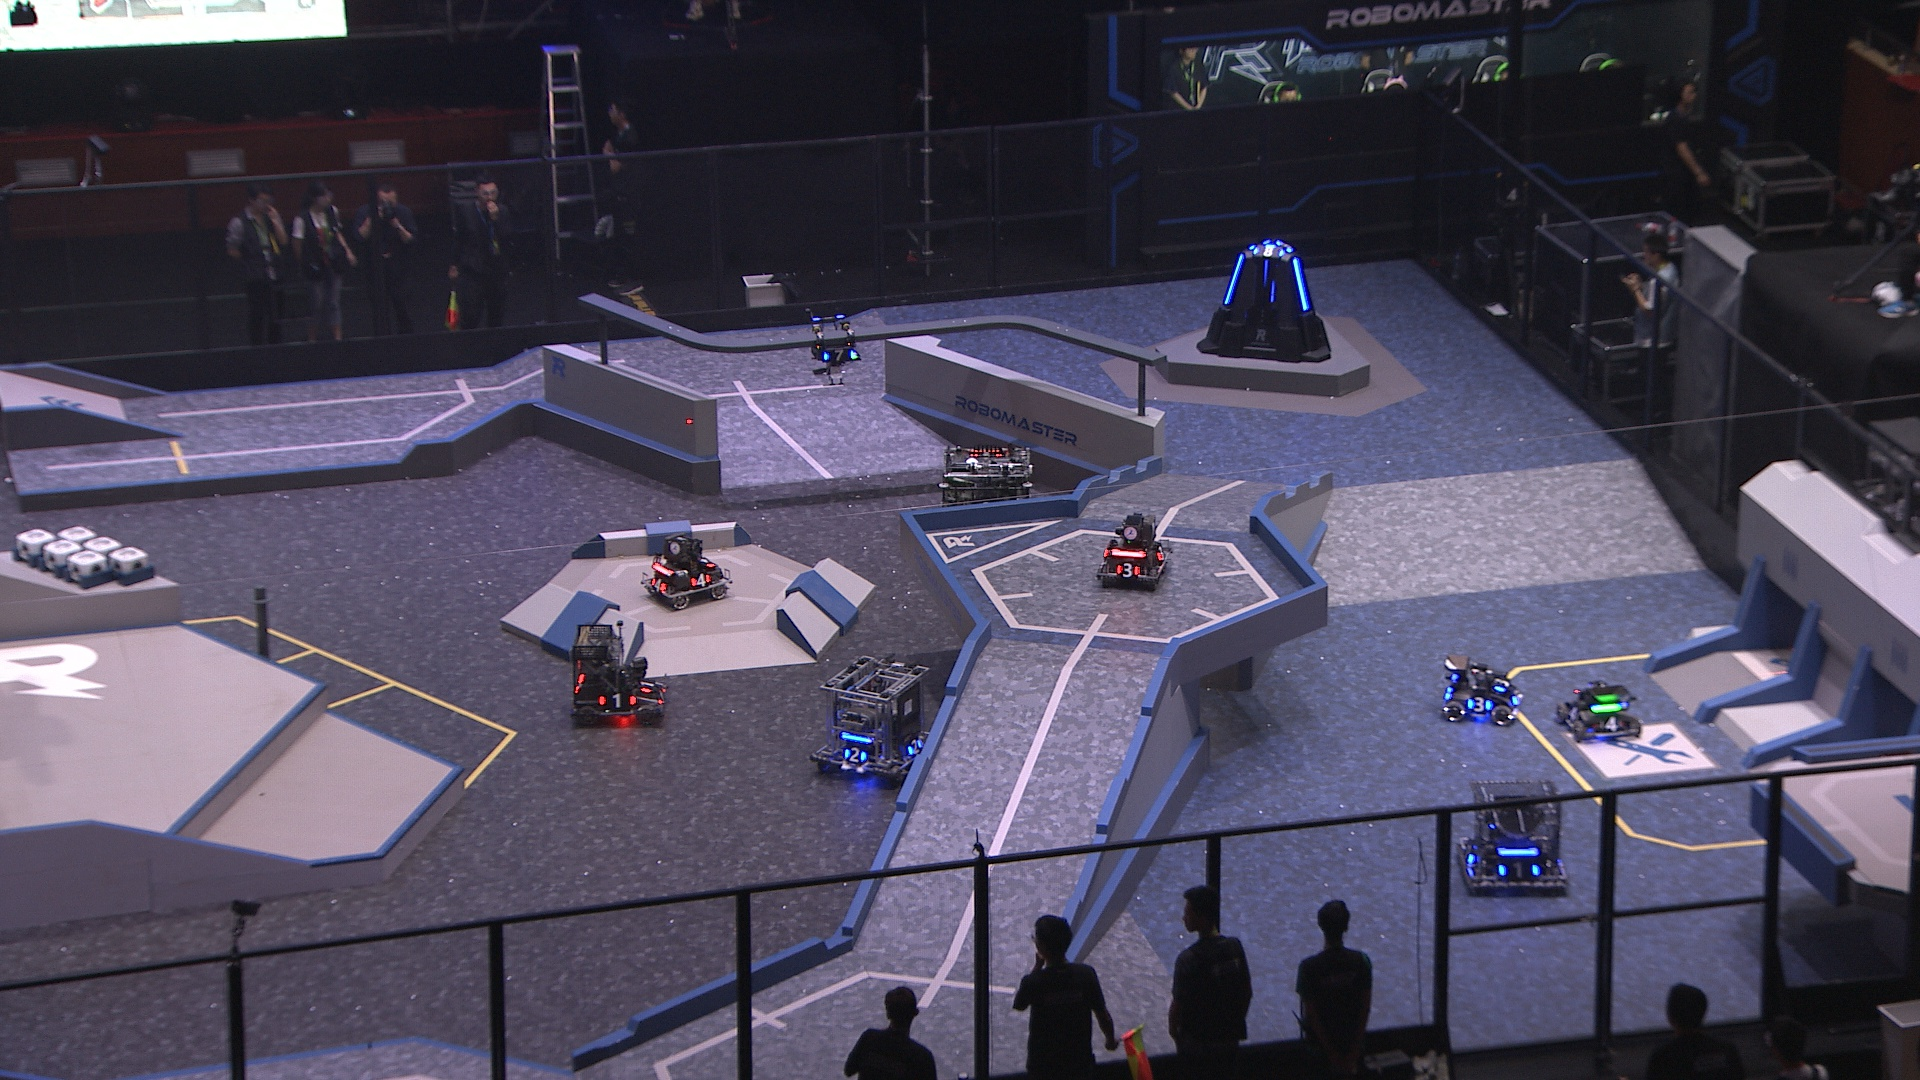armor: (1220, 253, 1245, 309), (1292, 258, 1311, 311), (1499, 860, 1539, 882), (822, 349, 858, 365), (1462, 841, 1480, 874), (600, 692, 636, 708), (1466, 694, 1491, 716), (1251, 243, 1284, 258), (843, 746, 870, 764), (1598, 716, 1625, 732), (1116, 560, 1139, 578), (690, 572, 713, 588), (1565, 704, 1581, 727), (647, 575, 665, 593), (907, 737, 923, 757), (1495, 673, 1509, 694), (655, 684, 669, 705), (640, 676, 655, 694), (1155, 545, 1166, 562)
base: (1196, 229, 1335, 367)
car: (808, 659, 932, 785), (1458, 783, 1571, 901), (566, 622, 673, 725), (940, 440, 1039, 542), (645, 529, 731, 615), (1437, 651, 1524, 727), (1553, 678, 1643, 746), (1097, 516, 1172, 593)
watcher: (808, 313, 861, 385)
